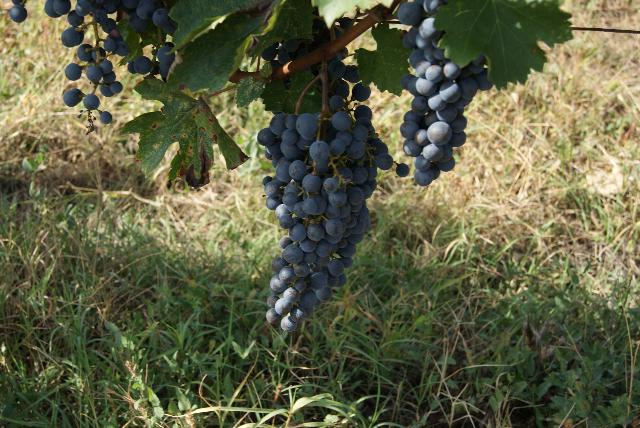grapes: (258, 95, 391, 332), (396, 0, 492, 186)
